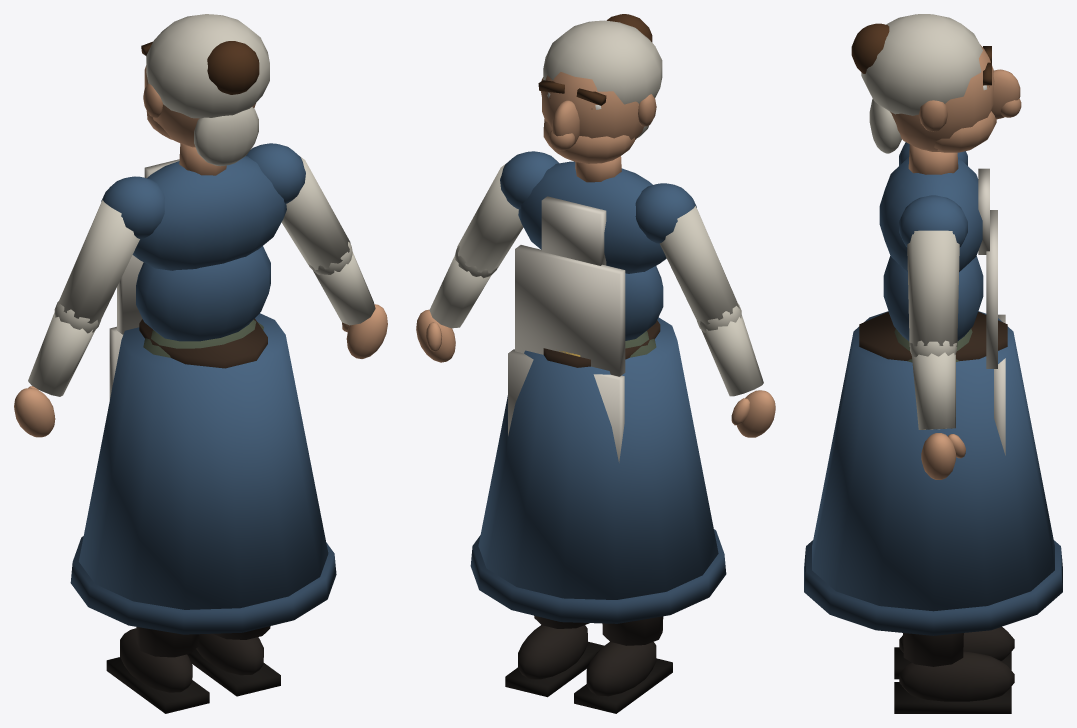
The model's file is mercadora_1.glb.
The picture shows the model from 3 angles, left to right: view 1: azimuth 30°, elevation 25°; view 2: azimuth 150°, elevation 25°; view 3: azimuth 270°, elevation 25°; orthographic projection. The views are drawn at different scales.
Parts seen in each view (by area): view 1: Hips, Chest, Head, Spine, RightUpperArm, RightFoot, LeftUpperArm, LeftFoot, RightForeArm, LeftForeArm, RightHand, LeftHand (+2 smaller); view 2: Hips, Chest, Head, Spine, RightUpperArm, RightFoot, LeftFoot, LeftUpperArm, RightForeArm, LeftForeArm, RightHand, LeftHand (+2 smaller); view 3: Hips, Head, Chest, LeftFoot, LeftUpperArm, Spine, LeftForeArm, LeftLowerLeg, RightFoot, LeftHand, Neck.
Boxes of the visible parts, x1,y1,x2,y2 form: Hips: [70, 313, 336, 634]; Chest: [101, 143, 305, 270]; Head: [141, 14, 269, 166]; Spine: [117, 246, 270, 341]; RightUpperArm: [57, 200, 139, 325]; RightFoot: [106, 628, 209, 713]; LeftUpperArm: [281, 156, 350, 270]; LeftFoot: [187, 633, 280, 696]; RightForeArm: [28, 301, 100, 396]; LeftForeArm: [308, 242, 375, 325]; RightHand: [14, 386, 55, 437]; LeftHand: [342, 304, 387, 358]; Hips: [470, 317, 726, 623]; Chest: [500, 151, 696, 273]; Head: [538, 14, 662, 163]; Spine: [515, 245, 663, 376]; RightUpperArm: [659, 206, 739, 325]; RightFoot: [574, 642, 672, 713]; LeftFoot: [505, 625, 603, 697]; LeftUpperArm: [457, 164, 523, 273]; RightForeArm: [697, 303, 763, 396]; LeftForeArm: [429, 246, 497, 328]; RightHand: [731, 390, 775, 437]; LeftHand: [416, 309, 455, 362]; Hips: [804, 311, 1062, 635]; Head: [851, 14, 1021, 153]; Chest: [879, 142, 989, 271]; LeftFoot: [894, 651, 1014, 713]; LeftUpperArm: [907, 230, 959, 346]; Spine: [883, 210, 997, 368]; LeftForeArm: [910, 340, 956, 429]; LeftLowerLeg: [903, 633, 963, 666]; RightFoot: [894, 626, 1014, 679]; LeftHand: [921, 433, 965, 479]; Neck: [908, 144, 958, 174].
Bounding box in the file's own units: 1.09 × 1.88 × 0.663.
